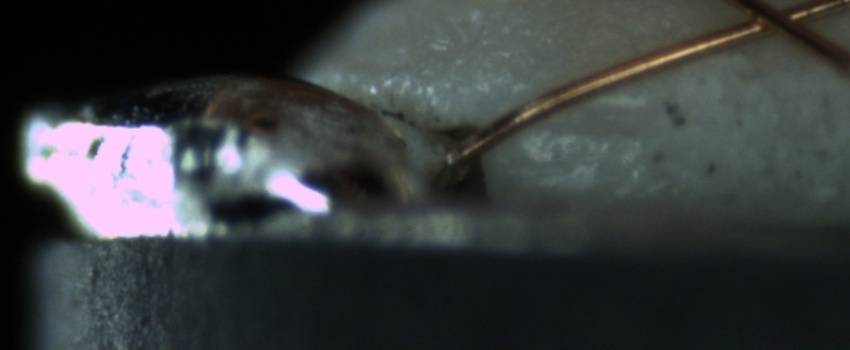CL: (722, 1, 828, 42)
DL: (530, 94, 667, 158)
